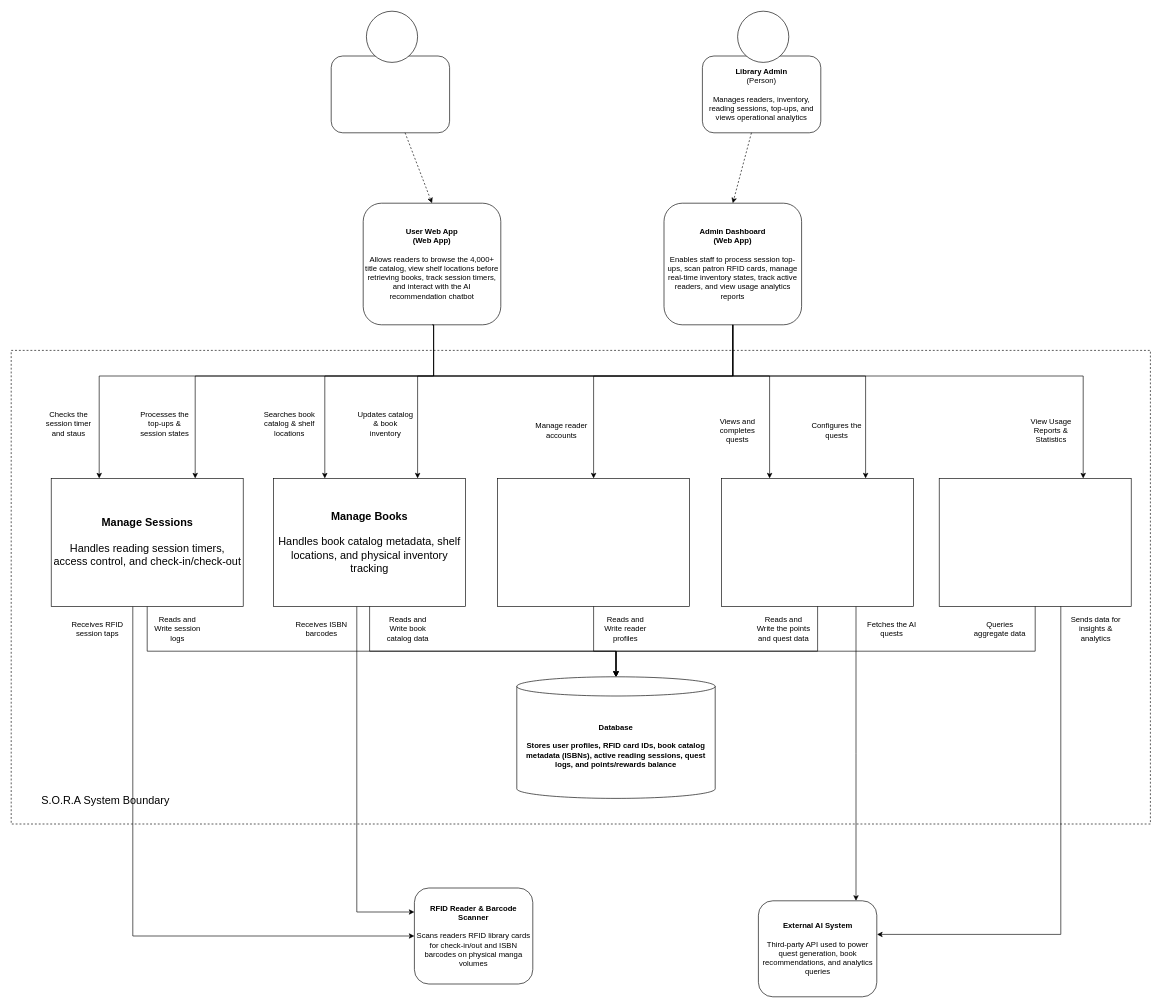
Some shapes in this 1162 by 1008 pixel diagram are drawn without their labels. The box of each missing label's shape, as (x1, y1, x2, y2) in pixels:
Library Reader (Person) Browses catalog, reads manga, checks session status: (331, 55, 450, 133)
Manage Analytics Handles the admin dashboard overview, usage report generation,: (939, 478, 1131, 606)
Manage Profile Manages the readers user profile, and credentials: (497, 478, 690, 606)
Manage Quests Controls the gamified quests and the readers points balance: (721, 478, 914, 606)
